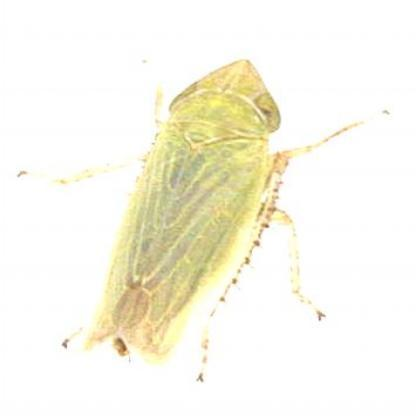green-leafhopper: (89, 49, 314, 368)
